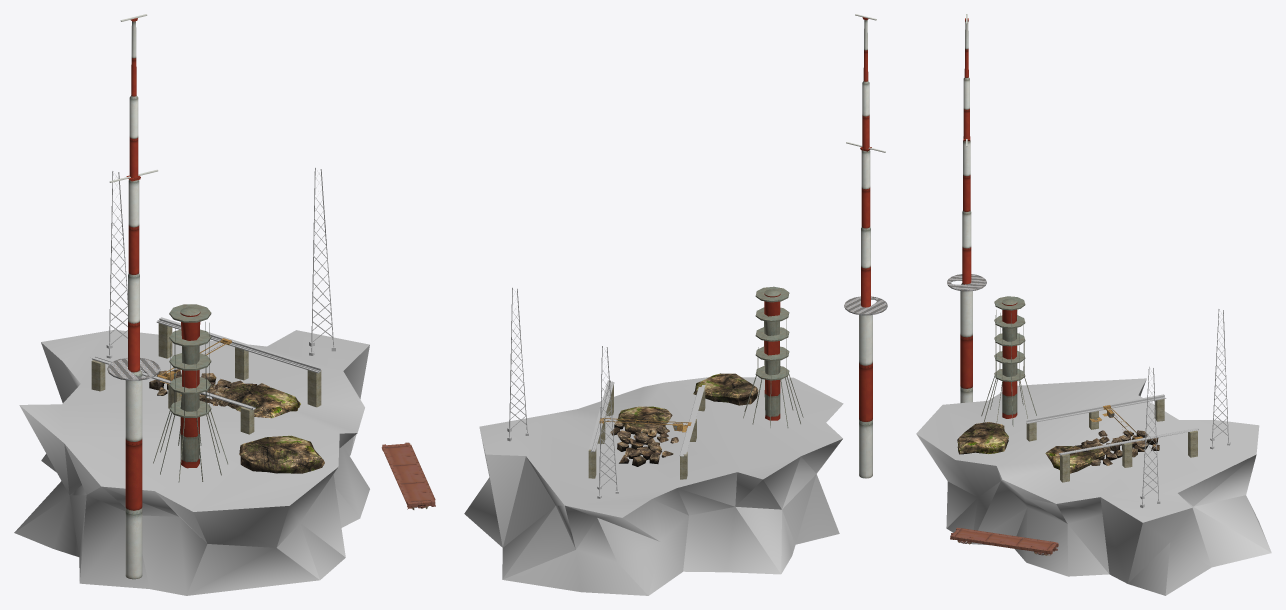
File: gold_mine.fbx
3 views of the same model, side by side, from view 1: azimuth 30°, elevation 25°; view 2: azimuth 150°, elevation 25°; view 3: azimuth 270°, elevation 25° (orthographic). The views are drawn at different scales.
Visible parts, largest first — view 1: stone11, Mesh Object, tower1, kran1, stone1, poezd, stone12, tower3, tower2; view 2: stone11, Mesh Object, tower1, kran1, stone1, stone12, tower2, tower3, stones6; view 3: stone11, Mesh Object, tower1, kran1, poezd, stone1, stone12, tower2, tower3.
Boxes of the visible parts, bbox=[...] form: stone11: bbox=[14, 330, 369, 595]; Mesh Object: bbox=[107, 14, 160, 579]; tower1: bbox=[153, 304, 227, 482]; kran1: bbox=[90, 317, 322, 434]; stone1: bbox=[239, 435, 324, 473]; poezd: bbox=[381, 442, 435, 509]; stone12: bbox=[223, 383, 300, 418]; tower3: bbox=[309, 168, 335, 355]; tower2: bbox=[106, 171, 127, 358]; stone11: bbox=[464, 377, 843, 595]; Mesh Object: bbox=[844, 14, 887, 478]; tower1: bbox=[743, 286, 803, 427]; kran1: bbox=[588, 380, 705, 479]; stone1: bbox=[693, 373, 758, 405]; stone12: bbox=[617, 406, 672, 434]; tower2: bbox=[597, 346, 618, 498]; tower3: bbox=[507, 287, 528, 441]; stones6: bbox=[619, 445, 673, 466]; stone11: bbox=[916, 378, 1271, 595]; Mesh Object: bbox=[947, 14, 986, 403]; tower1: bbox=[981, 296, 1036, 426]; kran1: bbox=[1026, 394, 1198, 482]; poezd: bbox=[950, 527, 1058, 555]; stone1: bbox=[957, 422, 1008, 454]; stone12: bbox=[1045, 444, 1104, 473]; tower2: bbox=[1210, 309, 1230, 449]; tower3: bbox=[1140, 367, 1160, 507].
Size of the model in its own units: 24.68 by 36.87 by 26.61.
